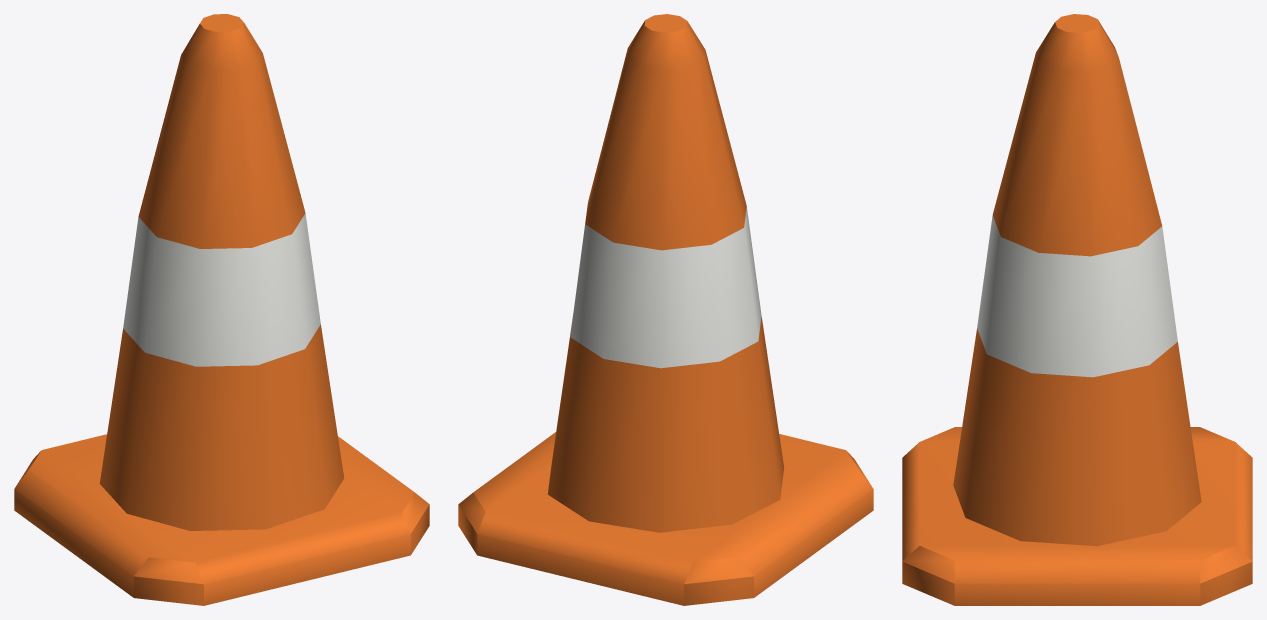
The model's file is Cono.fbx.
3 views of the same model, side by side, from view 1: azimuth 30°, elevation 25°; view 2: azimuth 150°, elevation 25°; view 3: azimuth 270°, elevation 25° (orthographic). The views are drawn at different scales.
Parts seen in each view (by area): view 1: Cono; view 2: Cono; view 3: Cono.
Boxes of the visible parts, x1,y1,x2,y2 form: Cono: (14, 14, 429, 605); Cono: (458, 14, 873, 605); Cono: (902, 14, 1252, 605).
Size of the model in its own units: 1 by 1.6 by 1.
1 material, 1 textured.
